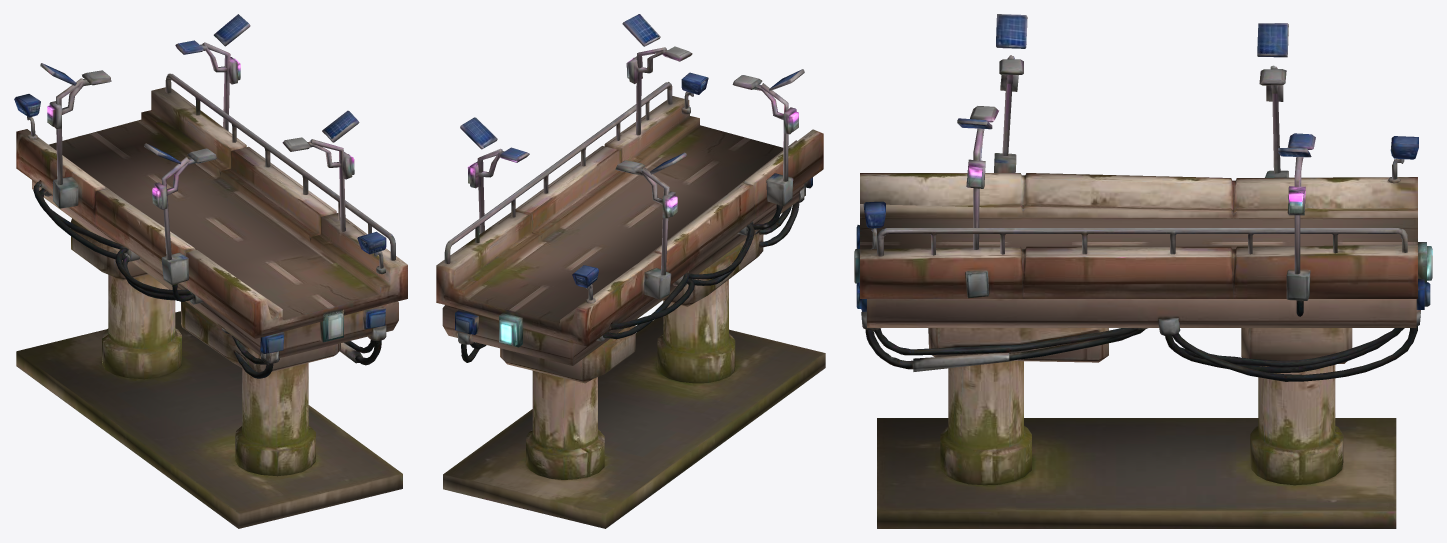
Rendered from concrete_bridge.glb.
3 renders of one model, left to right at view 1: azimuth 30°, elevation 25°; view 2: azimuth 150°, elevation 25°; view 3: azimuth 270°, elevation 25°, orthographic. The views are drawn at different scales.
Parts seen in each view (by area): view 1: Body; view 2: Body, Glow; view 3: Body.
Part boxes in pixels (<box>): Body: <box>14,14,407,528</box>; Body: <box>436,14,825,528</box>; Glow: <box>467,54,798,345</box>; Body: <box>854,14,1432,528</box>.
Size of the model in its own units: 10 by 15.37 by 19.88.
Materials: 2 (2 with a texture image).
